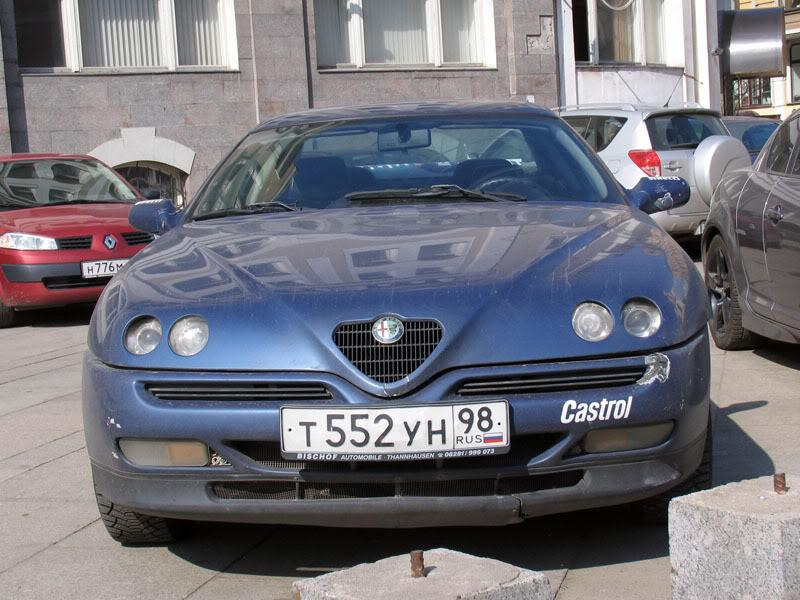license-plateSW: (279, 405, 507, 454), (83, 260, 127, 277)
